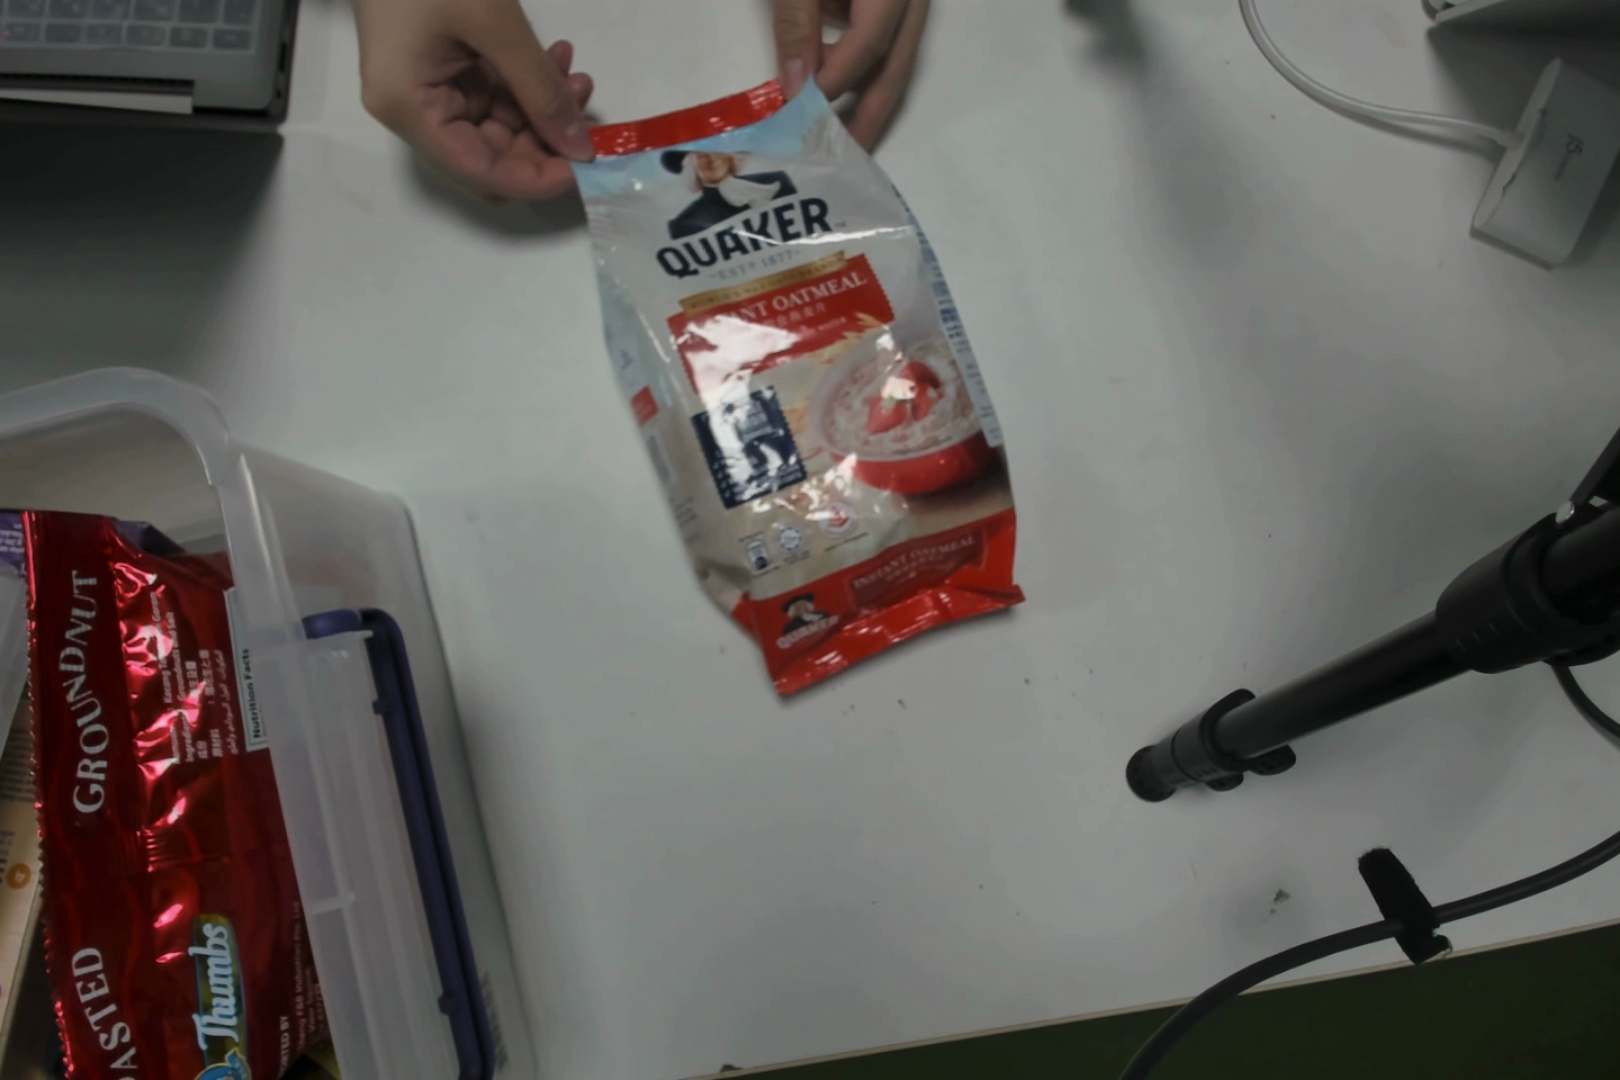RolledOatsInstantOatmeal_400-499g_Halal_Healthy: (624, 119, 997, 644)
